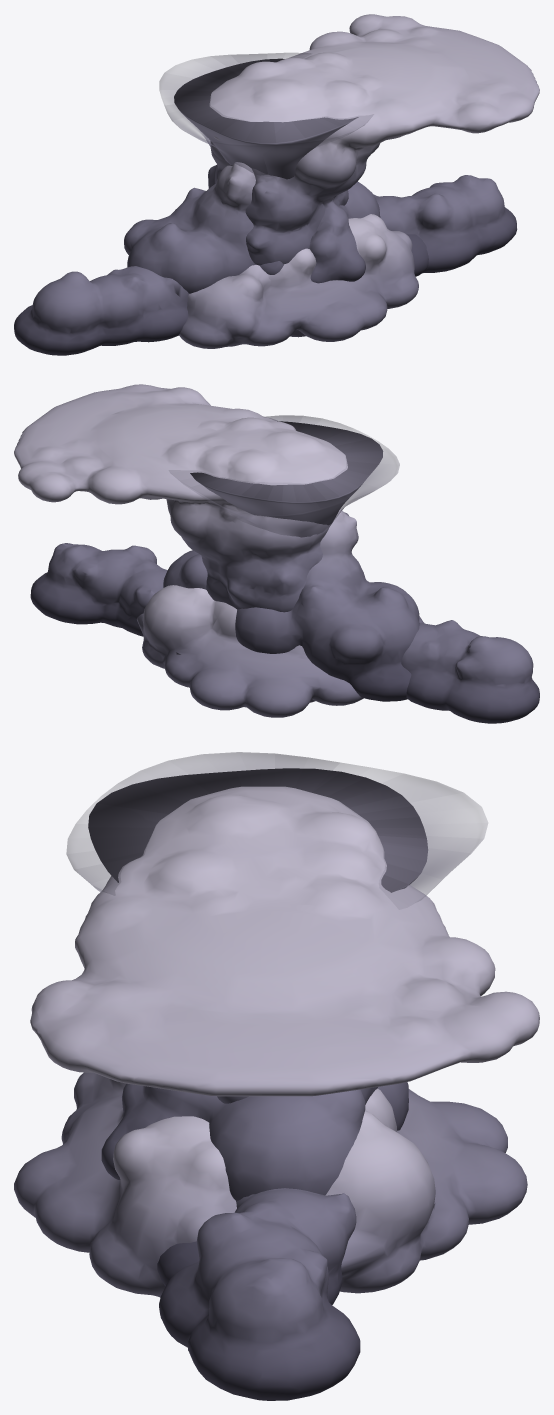
File: FlyHigh_StormZone2_v1.glb
3 views of the same model, one above another, from view 1: azimuth 30°, elevation 25°; view 2: azimuth 150°, elevation 25°; view 3: azimuth 270°, elevation 25° (orthographic). The views are drawn at different scales.
Parts seen in each view (by area): view 1: StormCumulonimbus, StormShelfBank2, StormWallCloud, StormCongestus2, StormFunnelShell, StormFunnelCore; view 2: StormCumulonimbus, StormShelfBank2, StormCongestus2, StormWallCloud, StormFunnelShell, StormFunnelCore; view 3: StormCumulonimbus, StormWallCloud, StormShelfBank2, StormFunnelShell, StormCongestus2, StormFunnelCore.
Part boxes in pixels (<box>): StormCumulonimbus: <box>208,14,539,265</box>; StormShelfBank2: <box>14,175,517,355</box>; StormWallCloud: <box>179,214,418,348</box>; StormCongestus2: <box>124,162,428,293</box>; StormFunnelShell: <box>159,53,373,175</box>; StormFunnelCore: <box>174,58,358,179</box>; StormCumulonimbus: <box>14,384,348,612</box>; StormShelfBank2: <box>30,543,539,723</box>; StormCongestus2: <box>163,509,419,701</box>; StormWallCloud: <box>137,585,421,717</box>; StormFunnelShell: <box>170,415,399,537</box>; StormFunnelCore: <box>190,421,383,525</box>; StormCumulonimbus: <box>30,786,539,1104</box>; StormWallCloud: <box>14,1072,527,1297</box>; StormShelfBank2: <box>159,1188,360,1400</box>; StormFunnelShell: <box>66,752,487,908</box>; StormCongestus2: <box>101,1082,408,1286</box>; StormFunnelCore: <box>88,768,428,892</box>.
Bounding box in the file's own units: 544 × 244 × 274.
Materials: 3 (3 with a texture image).
